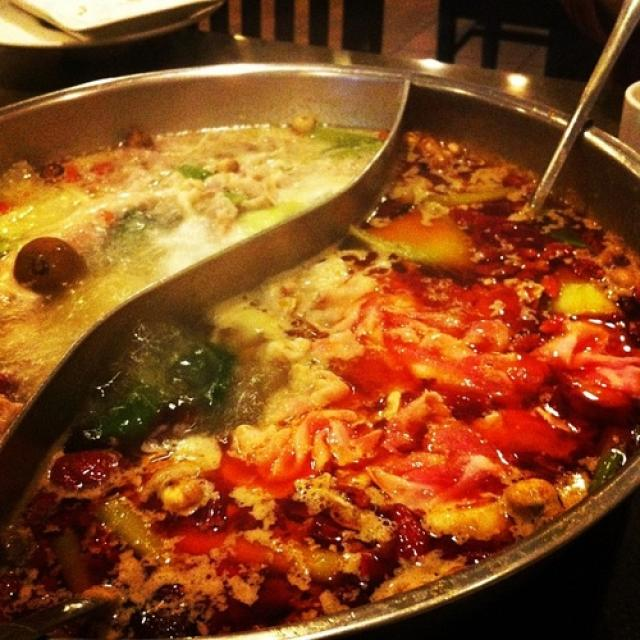汤锅炖物: (5, 42, 626, 618)
